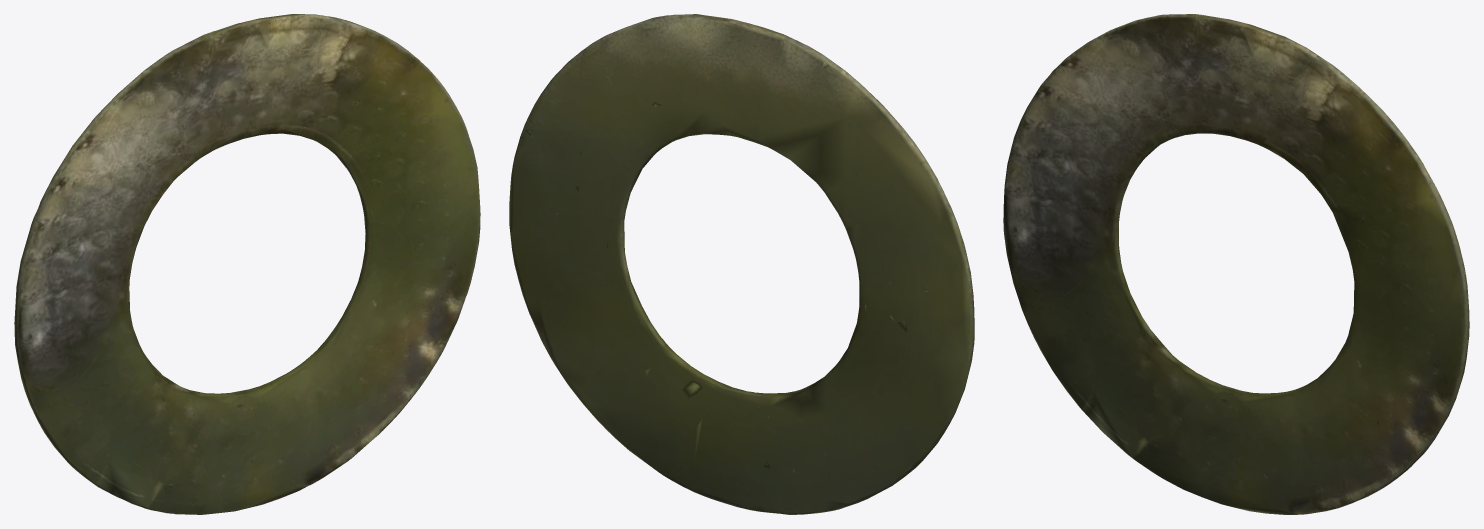
The model's file is grain-bi-overview.glb.
3 renders of one model, left to right at view 1: azimuth 30°, elevation 25°; view 2: azimuth 150°, elevation 25°; view 3: azimuth 330°, elevation 25°, orthographic.
Visible parts, largest first — view 1: node_0; view 2: node_0; view 3: node_0.
Part boxes in pixels (box(x1,y1,x2,y2)): node_0: box(14, 14, 480, 514); node_0: box(509, 14, 974, 514); node_0: box(1003, 14, 1469, 514).
Bounding box in the file's own units: 1.19 × 1.19 × 0.0197.
1 material, 1 textured.
